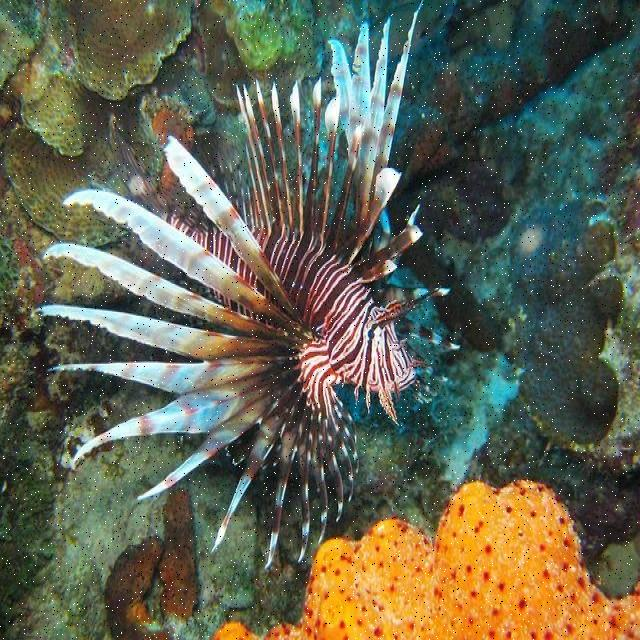fish: (38, 2, 460, 568)
reefs: (213, 480, 639, 639)
